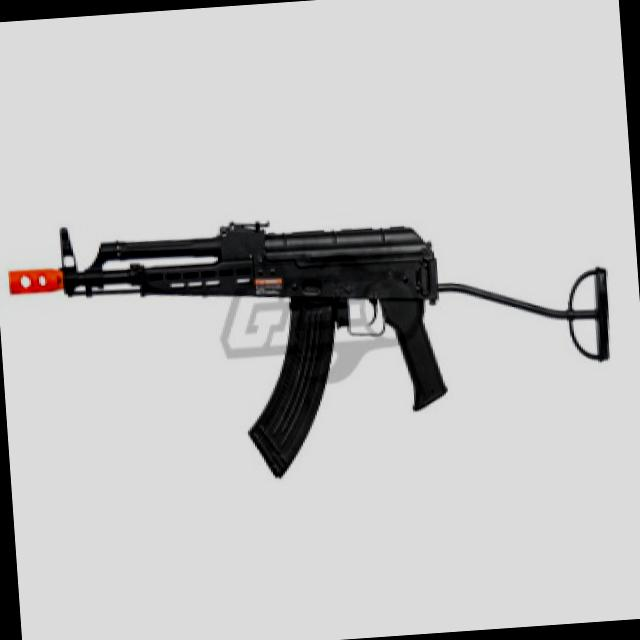long weapon: (0, 164, 619, 496)
